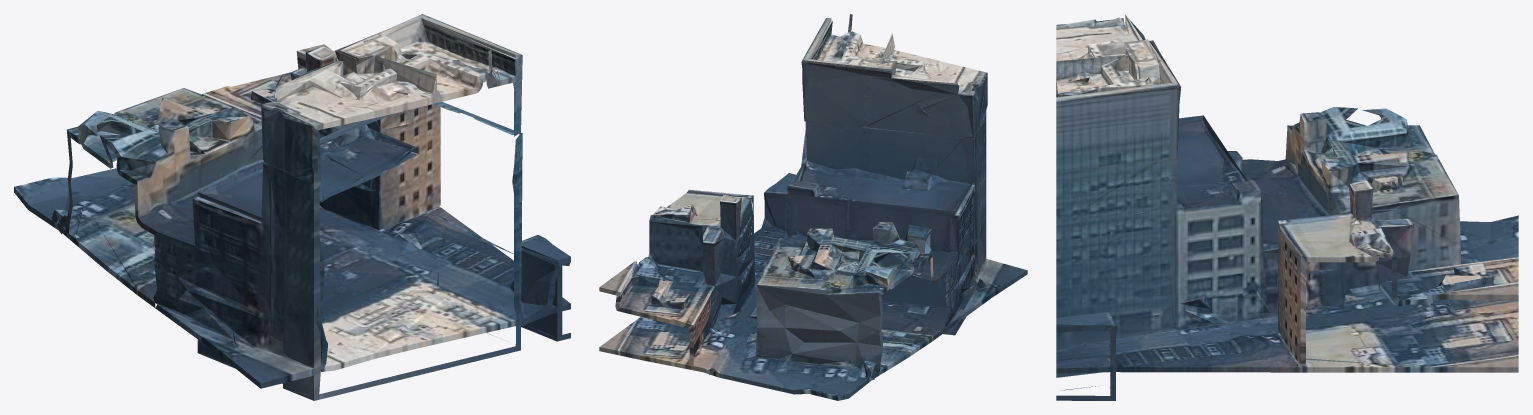
File: chunk_2_2.glb
3 renders of one model, left to right at view 1: azimuth 30°, elevation 25°; view 2: azimuth 150°, elevation 25°; view 3: azimuth 270°, elevation 25°, orthographic. The views are drawn at different scales.
Visible parts, largest first — view 1: hero-chunk; view 2: hero-chunk; view 3: hero-chunk.
Part boxes in pixels (x1=…): hero-chunk: x1=14, y1=14, x2=570, y2=400; hero-chunk: x1=599, y1=14, x2=1027, y2=400; hero-chunk: x1=1056, y1=14, x2=1518, y2=400.
Bounding box in the file's own units: 55.42 × 52.62 × 76.32.
Materials: 2 (2 with a texture image).
